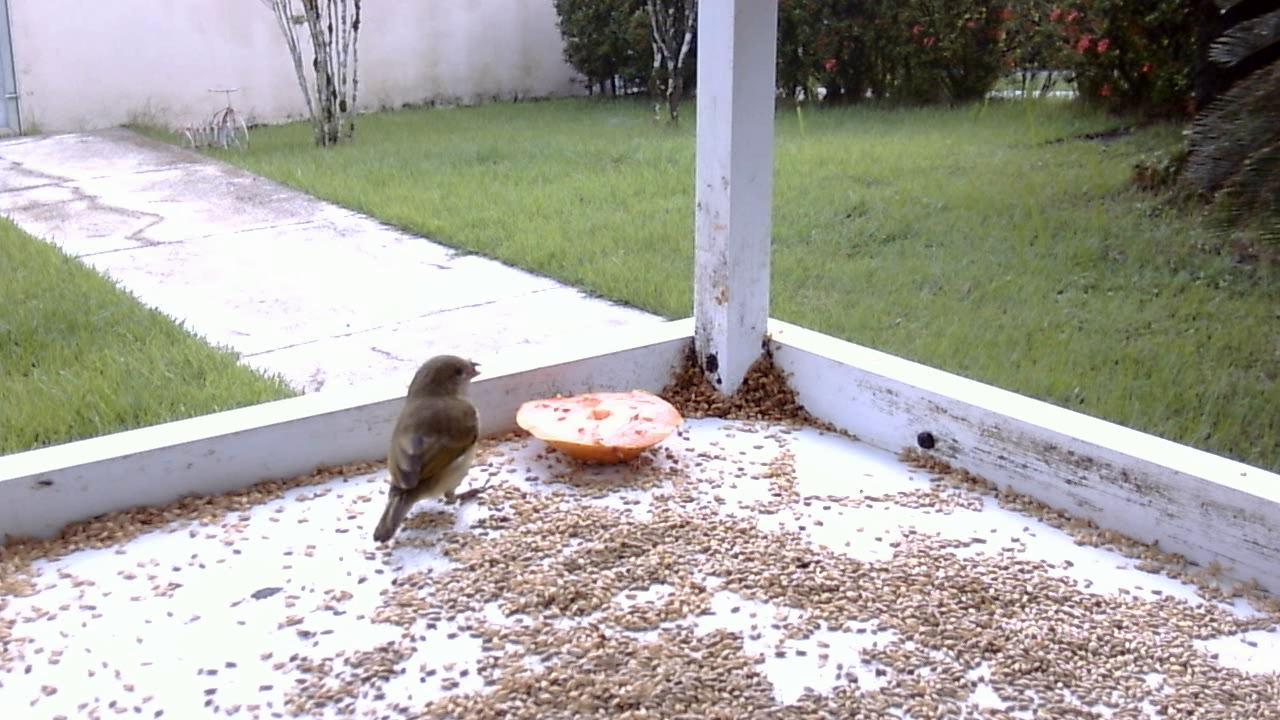canario_do_amazonas: (364, 354, 502, 552)
